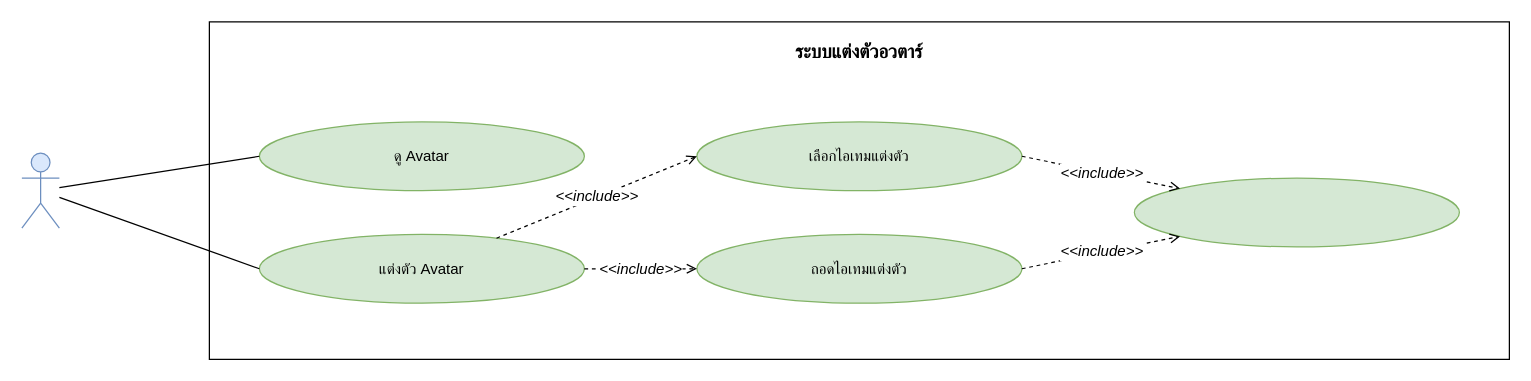
The diagram is 1531 pixels wide and 381 high, and some of its shapes have lost their labels. Each missing label, with the centre of its shape:
นักวิ่ง: the point at 40,190
บันทึกการแต่งตัว: the point at 1296,212
